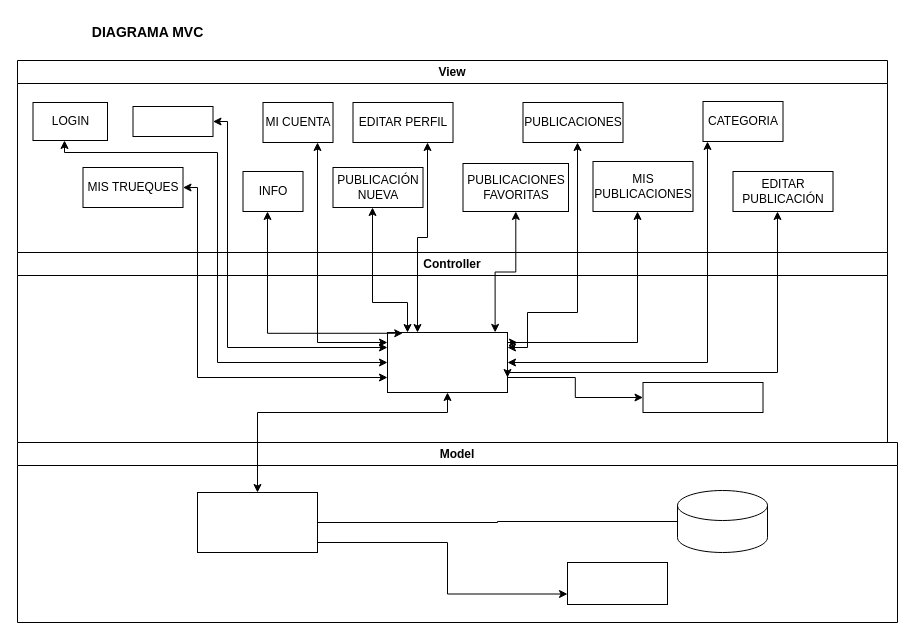
Image size: 915x640. Some labels were removed from this diagram. Each missing label, with the centre of its shape:
BASE: pixel 617 583
DB: pixel 722 521
DB RELACIONAL: pixel 257 522
GESTOR DE SERIVICIOS: pixel 447 362
NOTIFICADOR: pixel 702 397
REGISTRO: pixel 172 121
